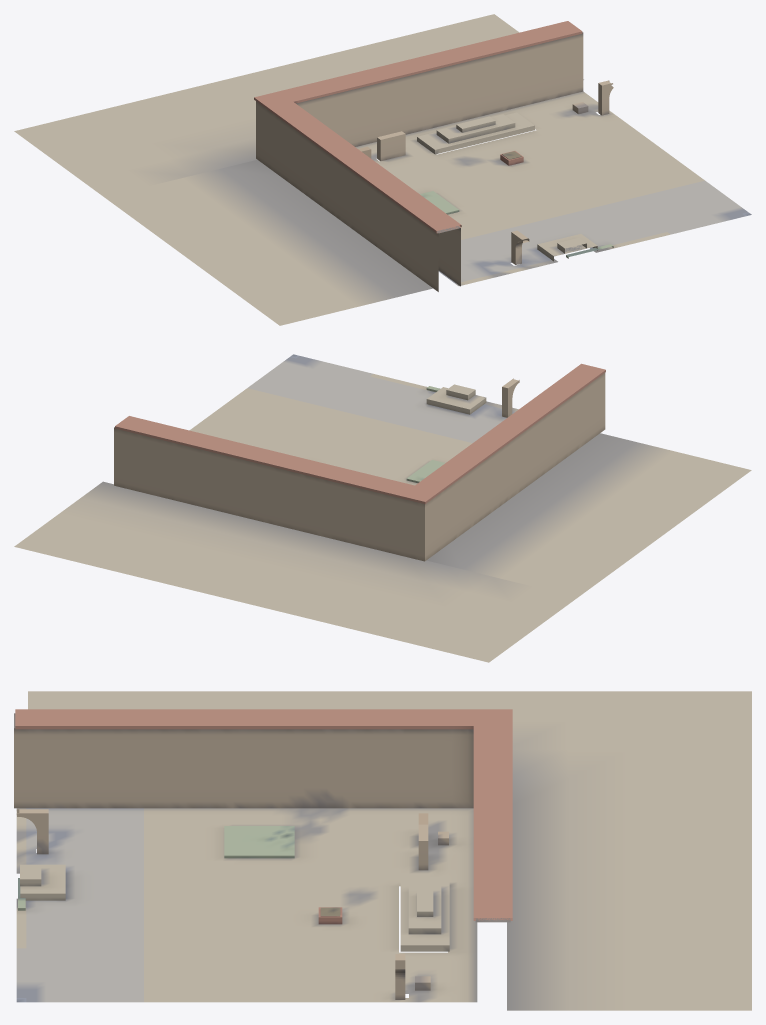
The picture shows the model from 3 angles, top to bottom: view 1: azimuth 30°, elevation 25°; view 2: azimuth 150°, elevation 25°; view 3: azimuth 270°, elevation 25°; orthographic projection. The views are drawn at different scales.
Visible parts, largest first — view 1: t; view 2: t; view 3: t.
Part boxes in pixels (left/top/right/bottom): t: left=14, top=14, right=751, bottom=325; t: left=14, top=354, right=751, bottom=662; t: left=14, top=691, right=751, bottom=1010.
Size of the model in its own units: 77 by 9.35 by 75.27.
